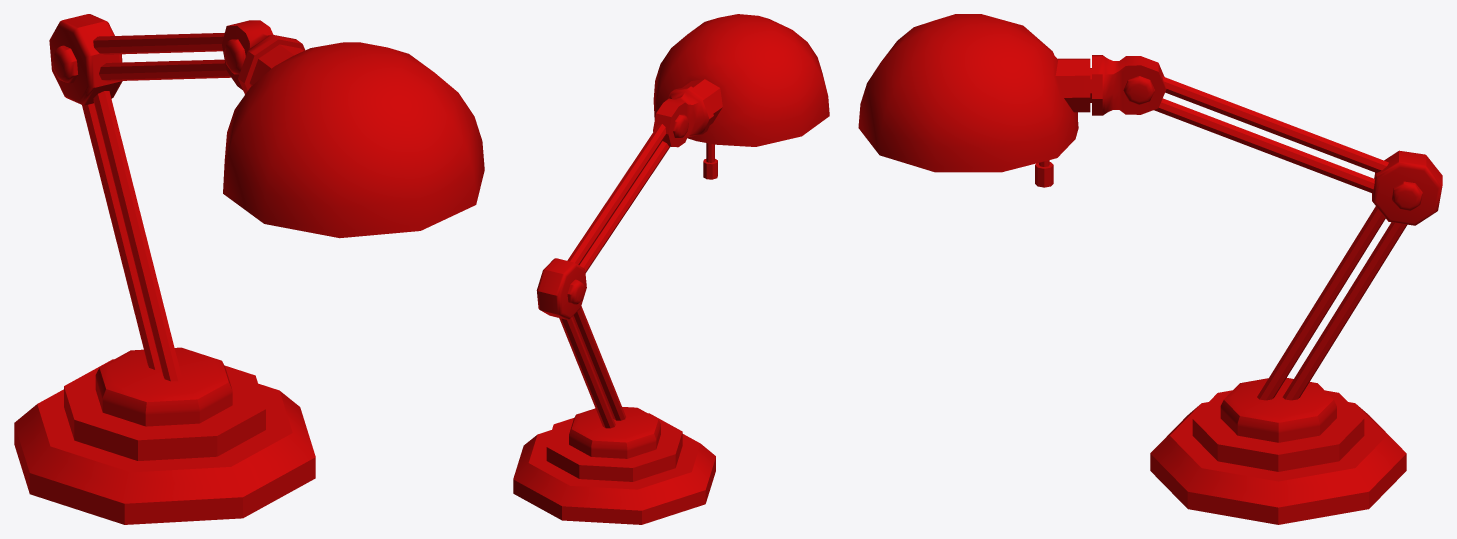
3 views of the same model, side by side, from view 1: azimuth 30°, elevation 25°; view 2: azimuth 150°, elevation 25°; view 3: azimuth 270°, elevation 25° (orthographic). The views are drawn at different scales.
Visible parts, largest first — view 1: shade, base_2, stack_1, stacK_2, lower_arm_1, center_hinge, lower_arm_1_2, upper_arm_1, upper_arm_1_2, head_attachment, center_bolt, top_bolt; view 2: shade, base_2, stack_1, stacK_2, head_attachment, center_hinge, upper_arm_1, upper_arm_1_2, lower_arm_1_2, lower_arm_1; view 3: shade, base_2, stack_1, stacK_2, upper_arm_1, lower_arm_1, center_hinge, upper_arm_1_2, head_attachment, lower_arm_1_2, center_bolt, top_bolt.
Boxes of the visible parts, x1,y1,x2,y2 form: shade: [223, 42, 484, 238]; base_2: [14, 383, 315, 524]; stack_1: [64, 359, 265, 460]; stacK_2: [95, 347, 232, 426]; lower_arm_1: [93, 91, 182, 381]; center_hinge: [49, 14, 122, 105]; lower_arm_1_2: [82, 103, 161, 369]; upper_arm_1: [93, 32, 224, 54]; upper_arm_1_2: [99, 59, 230, 81]; head_attachment: [222, 20, 305, 94]; center_bolt: [52, 45, 77, 83]; top_bolt: [224, 39, 245, 74]; shade: [653, 14, 829, 146]; base_2: [513, 430, 715, 524]; stack_1: [546, 413, 682, 481]; stacK_2: [569, 407, 660, 458]; head_attachment: [653, 86, 713, 147]; center_hinge: [536, 258, 586, 319]; upper_arm_1: [567, 124, 665, 264]; upper_arm_1_2: [579, 141, 669, 272]; lower_arm_1_2: [559, 317, 615, 428]; lower_arm_1: [572, 306, 625, 420]; shade: [858, 14, 1090, 172]; base_2: [1150, 402, 1406, 524]; stack_1: [1192, 390, 1364, 471]; stacK_2: [1220, 378, 1336, 442]; upper_arm_1: [1162, 76, 1388, 172]; lower_arm_1: [1257, 206, 1385, 400]; center_hinge: [1372, 150, 1442, 225]; upper_arm_1_2: [1154, 98, 1374, 193]; head_attachment: [1092, 55, 1166, 115]; lower_arm_1_2: [1282, 222, 1407, 400]; center_bolt: [1392, 181, 1422, 210]; top_bolt: [1123, 76, 1154, 104].
Bounding box in the file's own units: 70.79 × 136 × 161.
